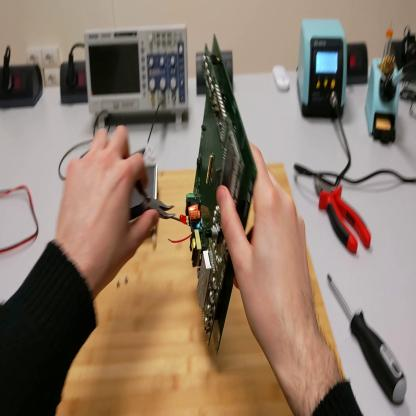hand: (217, 141, 322, 368), (57, 123, 157, 291)
low voltage board: (170, 34, 257, 354)
oscilloscope: (84, 27, 190, 128)
pliers: (314, 175, 373, 256), (135, 182, 178, 220)
screwdriver-: (328, 271, 409, 404)
socket: (2, 63, 45, 111), (62, 58, 88, 104), (391, 34, 416, 81), (347, 39, 368, 90)
welder base: (366, 23, 401, 147)
welder probe tip: (389, 61, 415, 90)
welder station: (299, 20, 349, 121)
working area: (57, 162, 348, 415)
